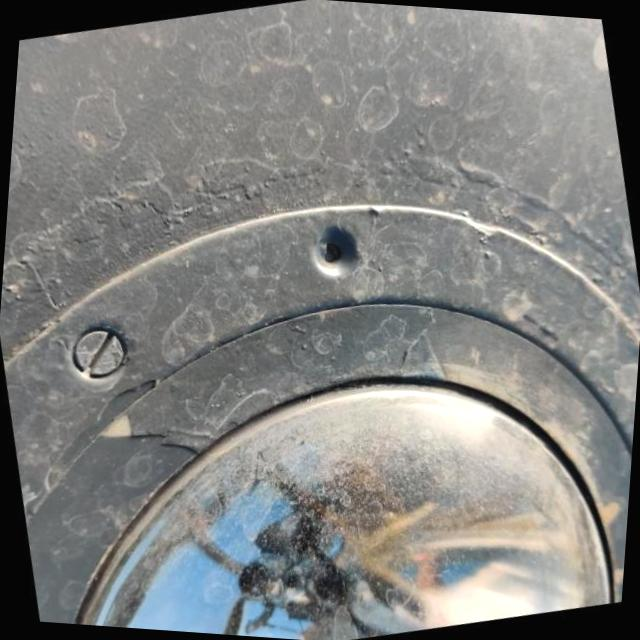Missing Fastener: (312, 223, 360, 277)
